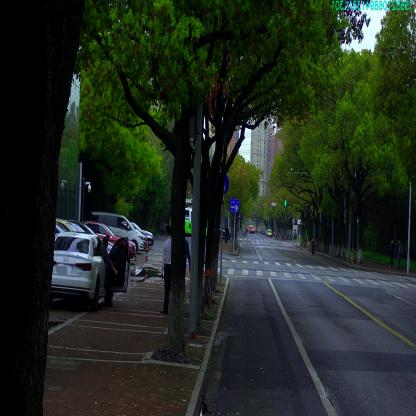traffic-light: (284, 199, 286, 205)
